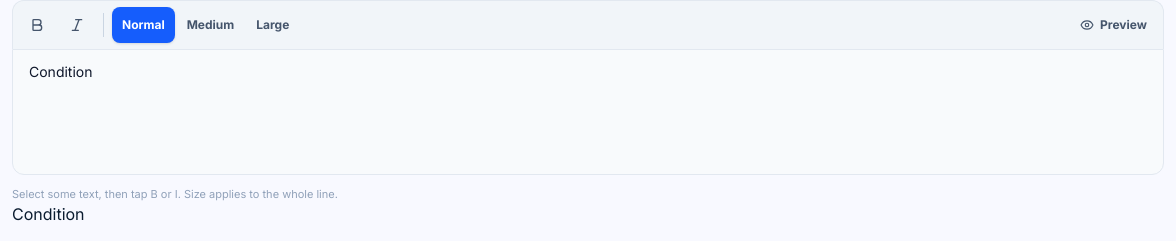
Test: FormattedTextarea › swaps one size for another rather than stacking prefixes
This screenshot has width=1176, height=241.
Click the button "Large" at (273, 25), box x1=246 y1=7 x2=299 y2=43
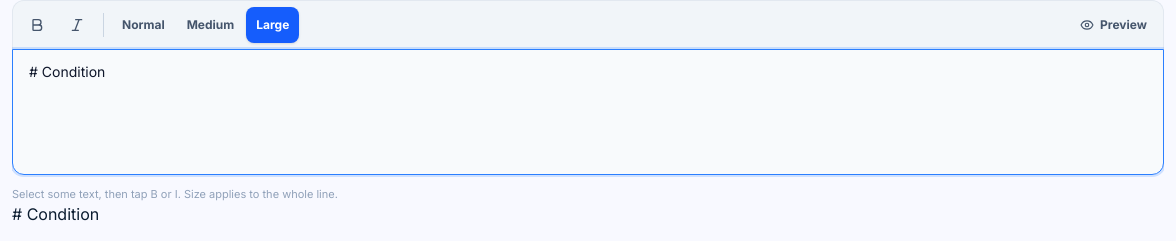
Click the button "Medium" at (210, 25), box x1=177 y1=7 x2=244 y2=43
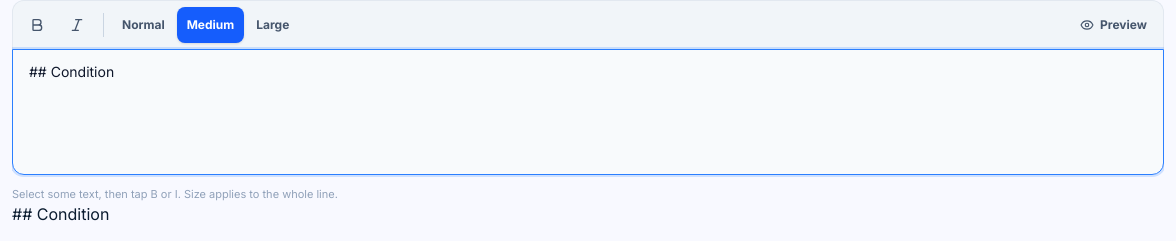
Check: the text with test id "value" reads "## Condition", box x1=12 y1=204 x2=109 y2=224
